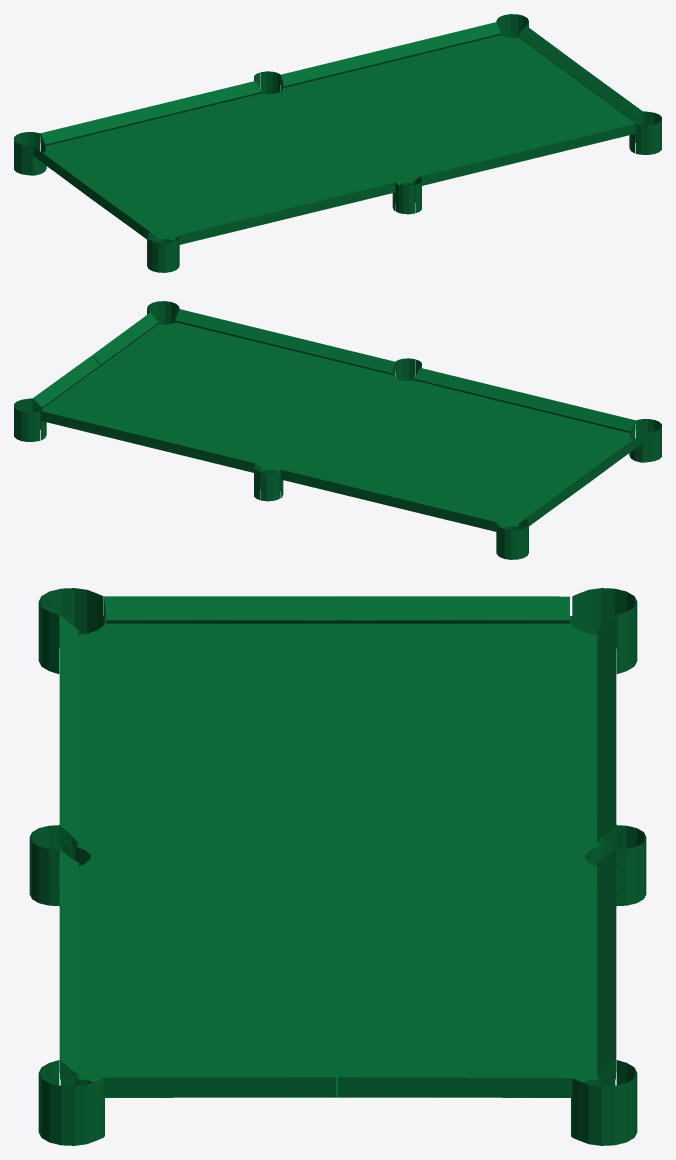
3 renders of one model, top to bottom at view 1: azimuth 30°, elevation 25°; view 2: azimuth 150°, elevation 25°; view 3: azimuth 270°, elevation 25°, orthographic. The views are drawn at different scales.
Visible parts, largest first — view 1: mat_Plane.006, thanh.001_Plane.004; view 2: mat_Plane.006, thanh.001_Plane.004; view 3: mat_Plane.006, thanh.001_Plane.004.
Part boxes in pixels (x1=…): mat_Plane.006: x1=14, y1=14, x2=661, y2=272; thanh.001_Plane.004: x1=33, y1=22, x2=643, y2=244; mat_Plane.006: x1=14, y1=301, x2=661, y2=559; thanh.001_Plane.004: x1=32, y1=309, x2=643, y2=531; mat_Plane.006: x1=29, y1=588, x2=646, y2=1145; thanh.001_Plane.004: x1=59, y1=596, x2=616, y2=1097.
Bounding box in the file's own units: 2.65 × 0.1482 × 1.38.
